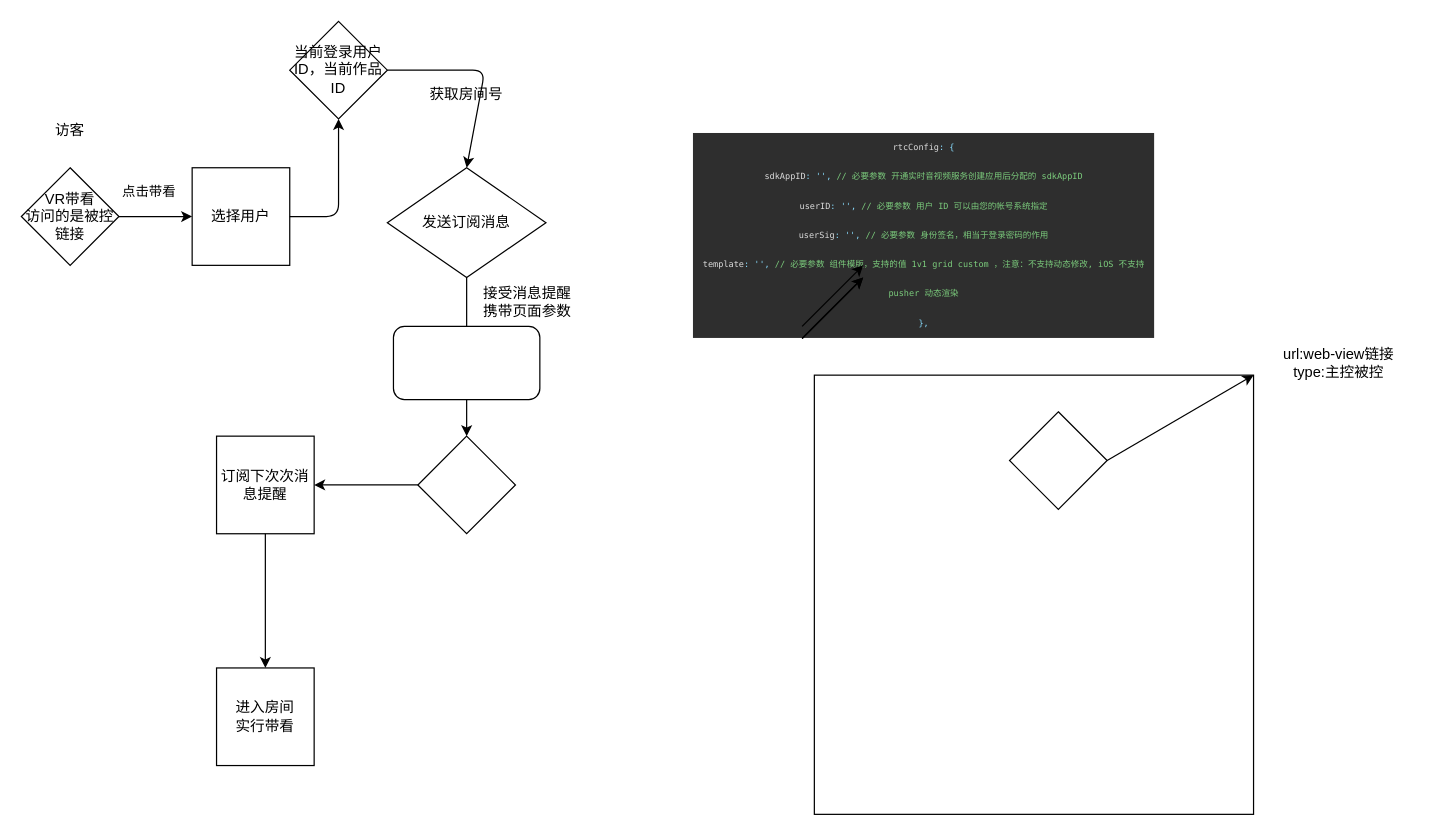
The diagram is 1446 pixels wide and 836 high, and some of its shapes have lost their labels. The shapes that lost their labels are listed below. From the top down, each one's centre as x and y in pixels, then its label:
the point at 466,362: URL（主控链接） roomID
the point at 1057,460: URL
the point at 466,484: 经纪人
